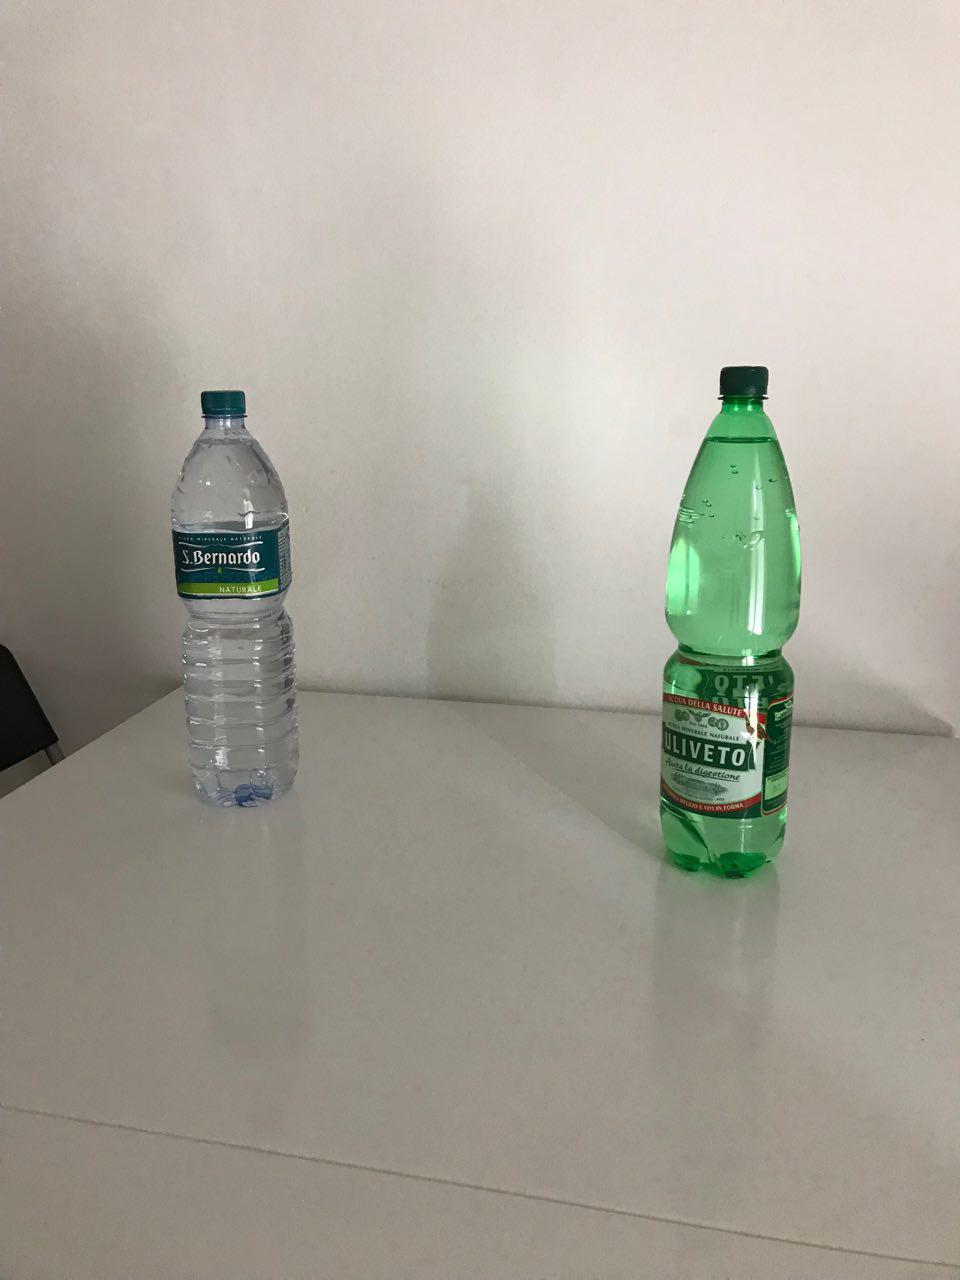san_bernardo: (169, 388, 298, 809)
